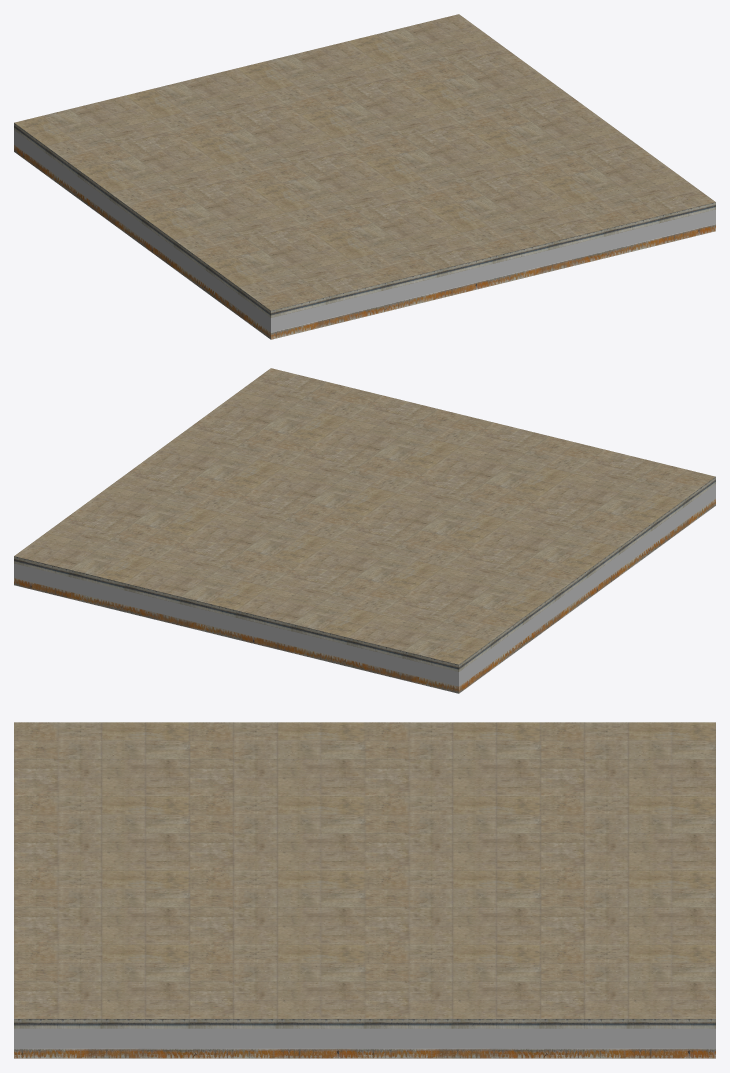
Rendered from PlatformUnitHor.fbx.
3 renders of one model, top to bottom at view 1: azimuth 30°, elevation 25°; view 2: azimuth 150°, elevation 25°; view 3: azimuth 270°, elevation 25°, orthographic. The views are drawn at different scales.
Parts seen in each view (by area): view 1: PlatformUnitHor_Lod0; view 2: PlatformUnitHor_Lod0; view 3: PlatformUnitHor_Lod0.
Boxes of the visible parts, x1,y1,x2,y2 form: PlatformUnitHor_Lod0: [14, 14, 715, 339]; PlatformUnitHor_Lod0: [14, 368, 715, 693]; PlatformUnitHor_Lod0: [14, 722, 715, 1058].
Bounding box in the file's own units: 64 × 4.64 × 64.
